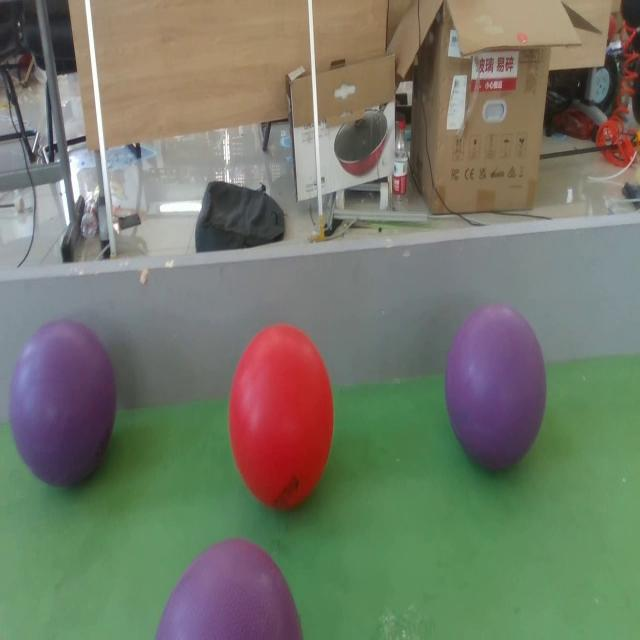invalid: (9, 323, 120, 492), (445, 299, 542, 473), (155, 540, 304, 640)
red: (230, 322, 334, 512)
